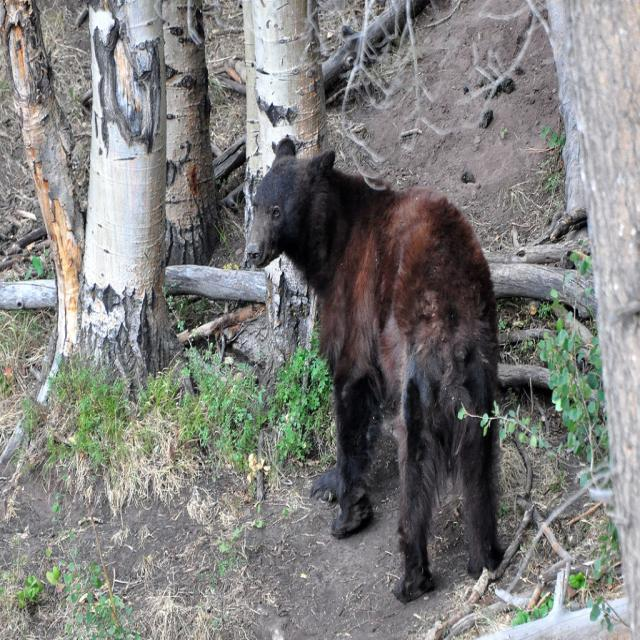Buffalo: (244, 138, 501, 608)
